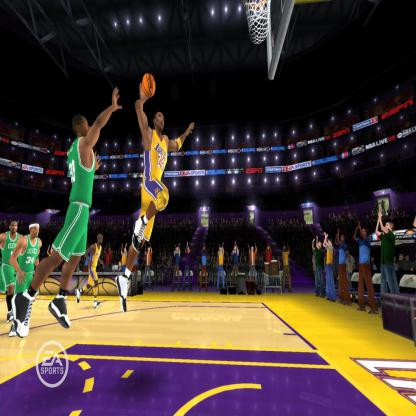face: (80, 121, 92, 137), (156, 113, 165, 128), (32, 227, 40, 237), (11, 223, 18, 234), (386, 224, 391, 232), (99, 236, 104, 244), (363, 229, 367, 236), (400, 256, 404, 261), (342, 236, 345, 242), (329, 241, 332, 246), (347, 251, 350, 256), (372, 258, 375, 262), (148, 249, 151, 253), (335, 249, 337, 254), (120, 262, 122, 267), (284, 246, 287, 249), (319, 242, 321, 246), (177, 248, 179, 252), (99, 258, 101, 262), (268, 247, 270, 250), (252, 248, 254, 251), (235, 247, 237, 250), (221, 248, 223, 251), (204, 248, 206, 251), (188, 248, 190, 251), (170, 257, 172, 260), (163, 257, 164, 260)
